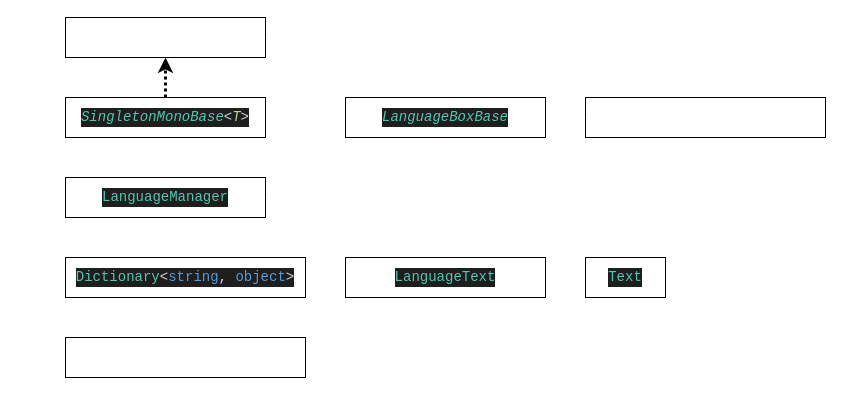
This 843x395 diagram has some shape labels left out. Each missing label, with the centre of its shape:
"interface ILanguageRefresh" belongs at (x=705, y=117).
"List < ILanguageRefresh >" belongs at (x=185, y=357).
"MonoBehaviour" belongs at (x=165, y=37).
